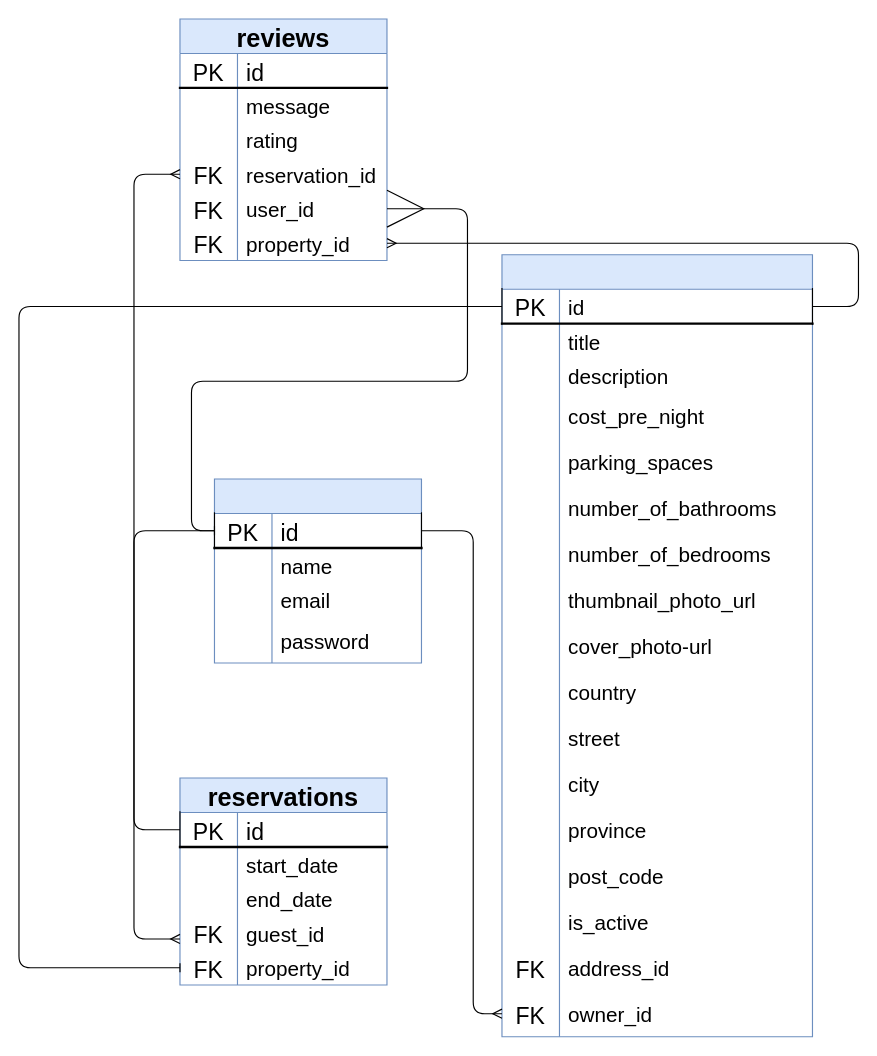
Image size: 877x1056. Some labels were removed from this diagram. The box of each missing label's shape, as (x1, y1, x2, y2) in pixels:
properties: (501, 254, 812, 1037)
user: (213, 478, 421, 663)
